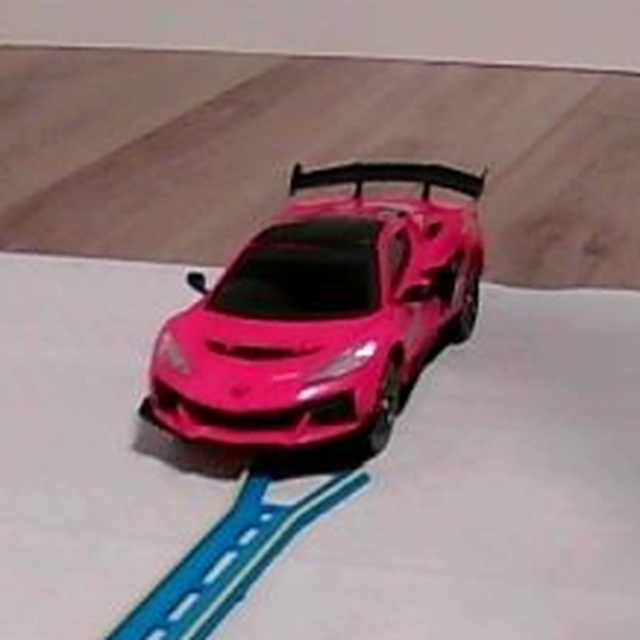tire_front_driver: (365, 385, 405, 452)
tire_rear_driver: (442, 285, 482, 345)
